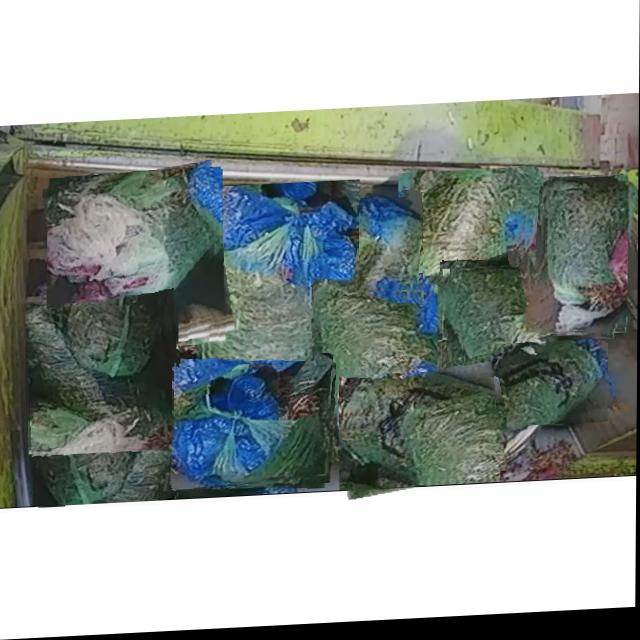general_trashbag: (204, 189, 359, 395), (48, 172, 218, 354), (315, 283, 437, 462), (398, 176, 521, 345), (27, 309, 179, 444), (173, 363, 334, 487), (340, 377, 497, 490), (36, 378, 175, 505), (443, 274, 549, 404), (547, 184, 629, 339), (466, 347, 605, 425), (364, 198, 424, 296)
